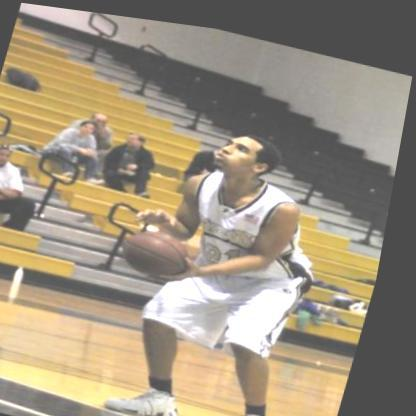basketball: (122, 219, 207, 278)
